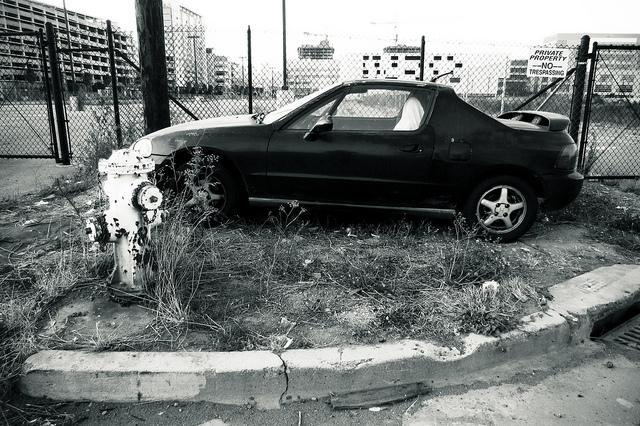car: (130, 80, 584, 245)
